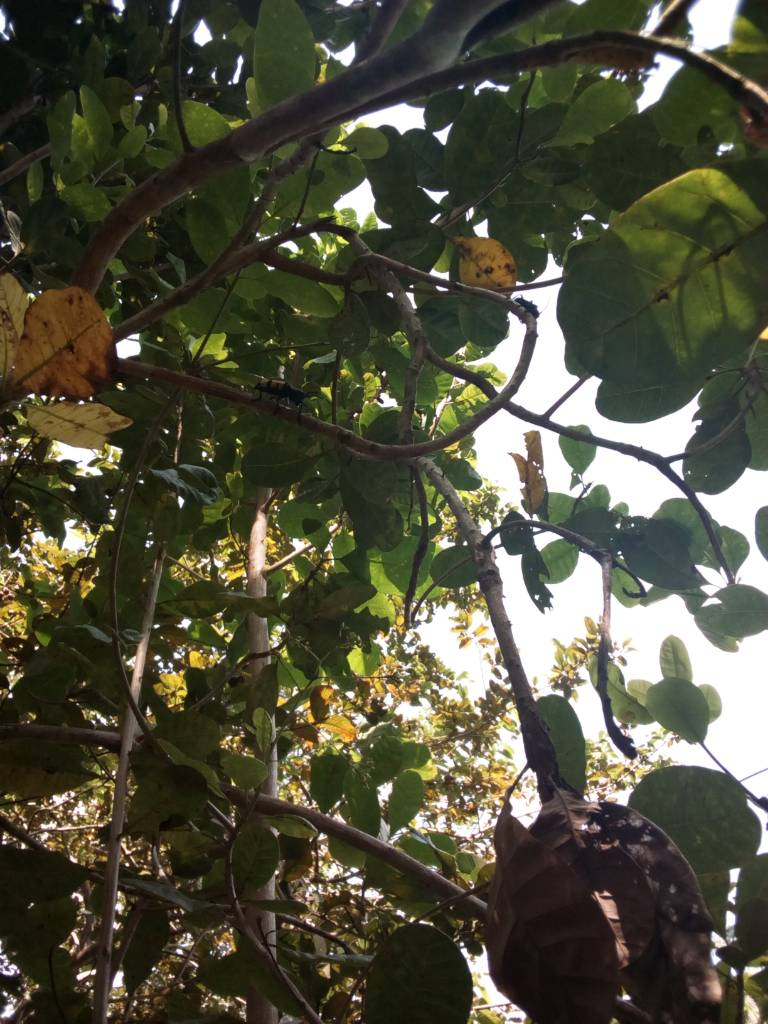Alternariose: (5, 288, 119, 405), (454, 235, 513, 292)
